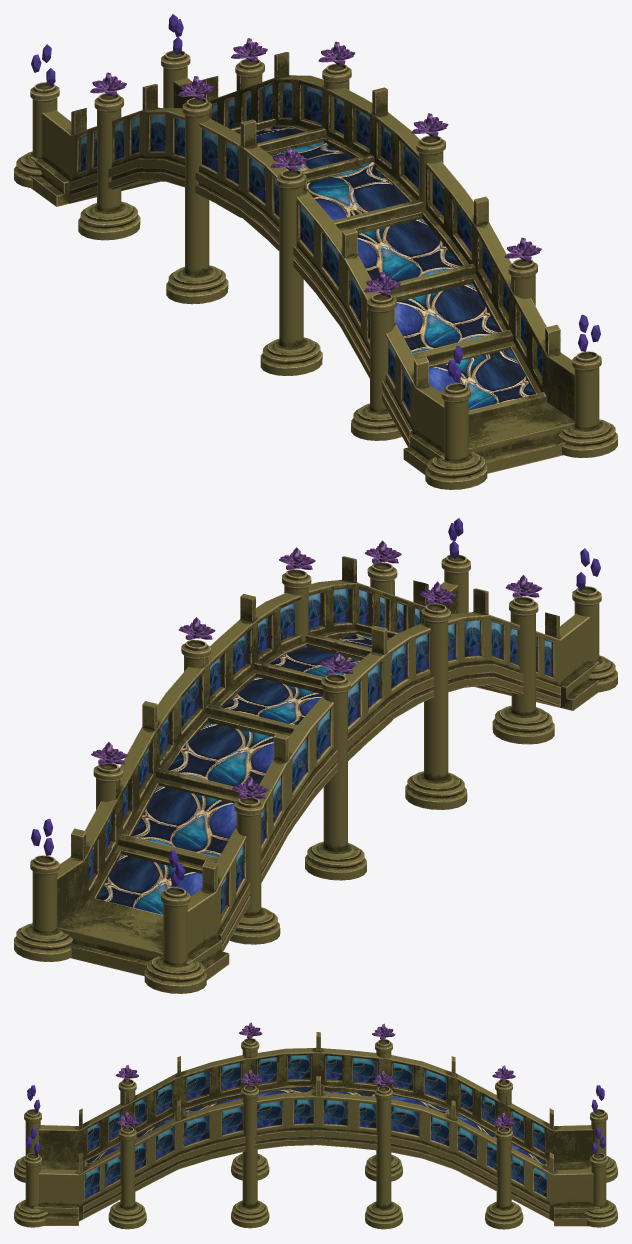
File: bridgeWholeCompressedTest.glb
3 views of the same model, one above another, from view 1: azimuth 30°, elevation 25°; view 2: azimuth 150°, elevation 25°; view 3: azimuth 270°, elevation 25° (orthographic). The views are drawn at different scales.
Parts seen in each view (by area): view 1: Mesh_5.001, Mesh_13.001, Mesh_161, Mesh_133, Mesh_0.017; view 2: Mesh_5.001, Mesh_13.001, Mesh_161, Mesh_133, Mesh_0.017; view 3: Mesh_5.001, Mesh_13.001, Mesh_133, Mesh_0.017, Mesh_161.
Part boxes in pixels (x1=…): Mesh_5.001: x1=30, y1=52, x2=599, y2=474; Mesh_13.001: x1=14, y1=14, x2=617, y2=489; Mesh_161: x1=256, y1=126, x2=534, y2=410; Mesh_133: x1=81, y1=84, x2=542, y2=412; Mesh_0.017: x1=90, y1=38, x2=541, y2=295; Mesh_5.001: x1=30, y1=556, x2=599, y2=980; Mesh_13.001: x1=14, y1=518, x2=617, y2=993; Mesh_161: x1=97, y1=634, x2=371, y2=914; Mesh_133: x1=88, y1=588, x2=551, y2=913; Mesh_0.017: x1=91, y1=540, x2=542, y2=798; Mesh_5.001: x1=34, y1=1032, x2=599, y2=1226; Mesh_13.001: x1=14, y1=1038, x2=617, y2=1229; Mesh_133: x1=84, y1=1055, x2=546, y2=1198; Mesh_0.017: x1=115, y1=1022, x2=515, y2=1128; Mesh_161: x1=86, y1=1088, x2=546, y2=1165.
Size of the model in its own units: 1.35 by 1.41 by 5.14.
7 materials, 7 textured.
